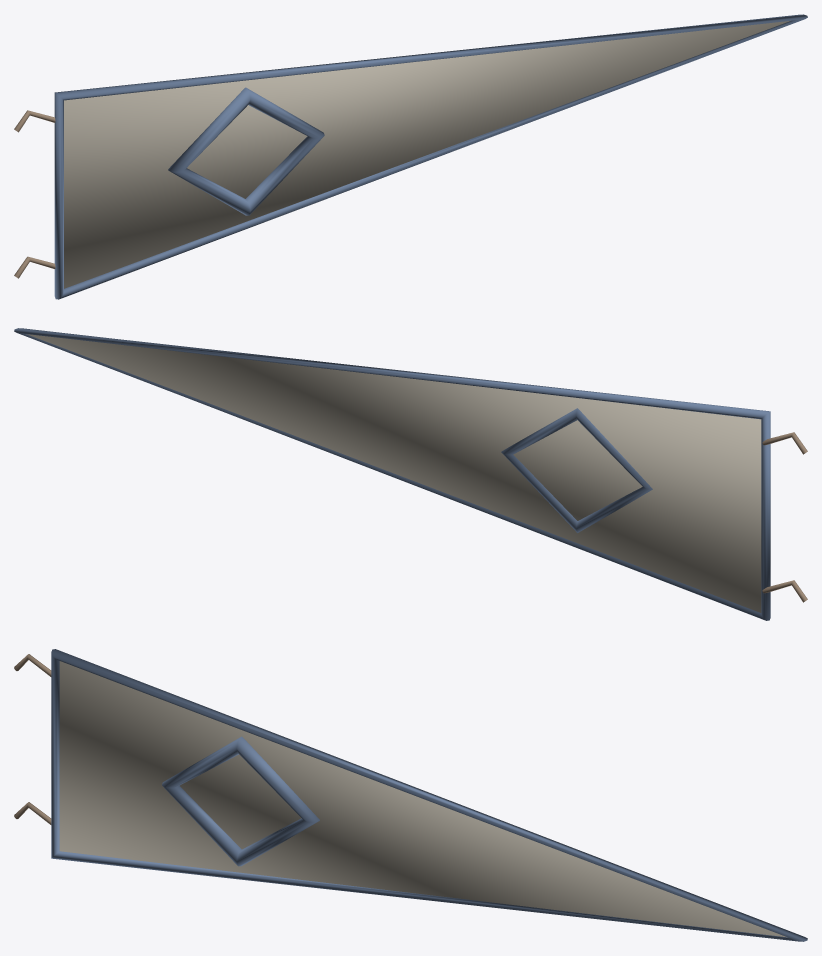
The model's file is room-team-pennant.glb.
The picture shows the model from 3 angles, top to bottom: view 1: azimuth 30°, elevation 25°; view 2: azimuth 150°, elevation 25°; view 3: azimuth 330°, elevation 25°; orthographic projection.
Visible parts, largest first — view 1: room-team-pennant-linen, room-team-pennant-fabric, room-team-pennant-wood; view 2: room-team-pennant-linen, room-team-pennant-fabric, room-team-pennant-wood; view 3: room-team-pennant-linen, room-team-pennant-fabric, room-team-pennant-wood.
Part boxes in pixels (left/top/right/bottom): room-team-pennant-linen: left=64, top=21, right=789, bottom=288; room-team-pennant-fabric: left=54, top=14, right=807, bottom=299; room-team-pennant-wood: left=14, top=110, right=55, bottom=278; room-team-pennant-linen: left=26, top=334, right=761, bottom=612; room-team-pennant-fabric: left=14, top=328, right=770, bottom=620; room-team-pennant-wood: left=762, top=432, right=807, bottom=602; room-team-pennant-linen: left=59, top=661, right=786, bottom=937; room-team-pennant-fabric: left=51, top=649, right=807, bottom=941; room-team-pennant-wood: left=14, top=654, right=51, bottom=824.
Size of the model in its own units: 1.92 by 0.4795 by 0.041.
